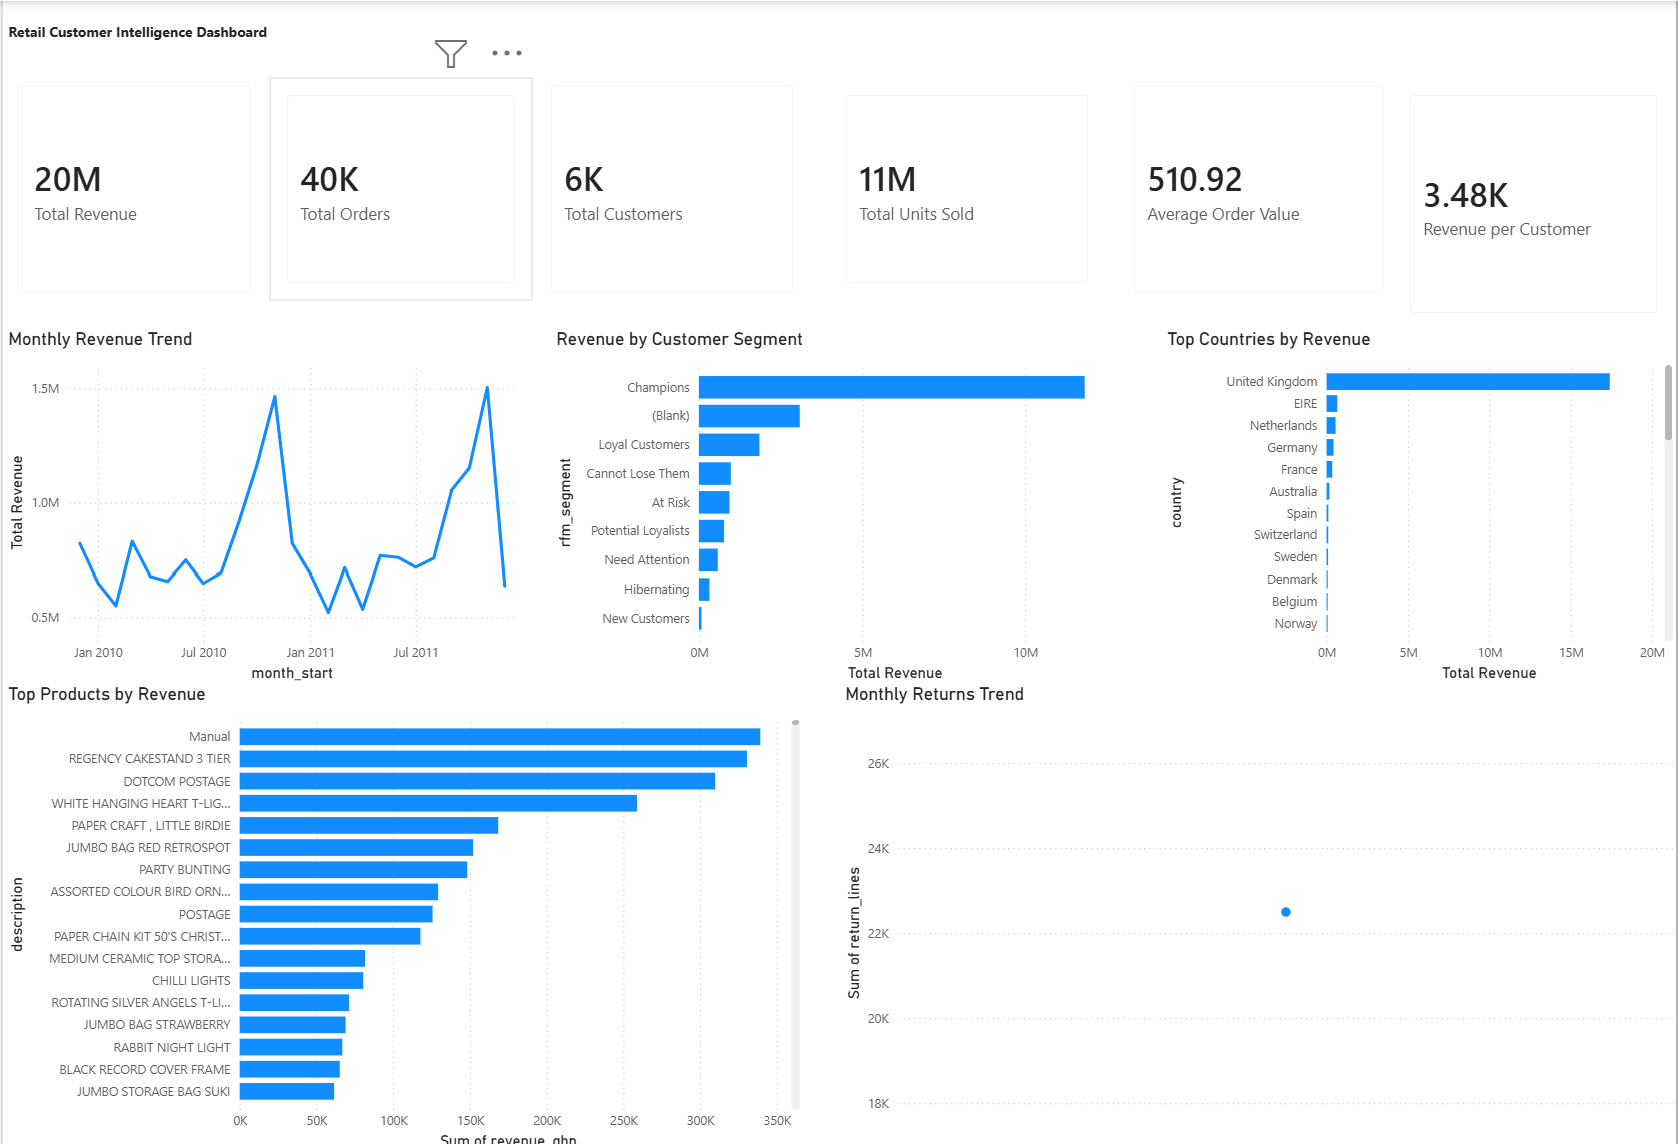

This screenshot's page, from the dashboard's own definition file:
{"tool":"powerbi","page":{"name":"Executive Overview","canvas":[1600,1100],"ordinal":0},"visuals":[{"type":"cardVisual","fields":{"Data":["fact_orders.Total Revenue"]},"box":[0,63.2,254.5,233.5],"z":0},{"type":"cardVisual","fields":{"Data":["fact_orders.Total Orders"]},"box":[254.5,72.7,252.6,214.4],"z":1},{"type":"cardVisual","fields":{"Data":["fact_orders.Total Customers"]},"box":[507.2,63.2,266,233.5],"z":2},{"type":"cardVisual","fields":{"Data":["fact_orders.Total Units Sold"]},"box":[788.5,72.7,266,214.4],"z":3},{"type":"cardVisual","fields":{"Data":["fact_orders.Average Order Value"]},"box":[1064.1,63.2,273.7,233.5],"z":4},{"type":"cardVisual","fields":{"Data":["fact_orders.Revenue per Customer"]},"box":[1328.2,72.7,271.8,243.1],"z":5},{"type":"lineChart","title":"Monthly Revenue Trend","fields":{"Category":["dim_date.month_start"],"Y":["fact_orders.Total Revenue"]},"box":[0,313.9,507.2,340.7],"z":6},{"type":"clusteredBarChart","title":"Revenue by Customer Segment","fields":{"Category":["dim_customer.rfm_segment"],"Y":["fact_orders.Total Revenue"]},"box":[524.4,313.9,532.1,340.7],"z":7},{"type":"clusteredBarChart","title":"Top Countries by Revenue","fields":{"Category":["fact_orders.country"],"Y":["fact_orders.Total Revenue"]},"box":[1108.1,313.9,493.8,340.7],"z":8},{"type":"clusteredBarChart","title":"Top Products by Revenue","fields":{"Category":["fact_product_month.description"],"Y":["Sum(fact_product_month.revenue_gbp)"]},"box":[0,652.6,767.5,449.8],"z":9},{"type":"lineChart","title":"Monthly Returns Trend","fields":{"Y":["Sum(fact_returns_month.return_lines)"]},"box":[800,652.6,801.9,447.8],"z":10},{"type":"textbox","box":[0,15.3,400,57.4],"z":11}]}

Visuals, with their boxes in screenshot pixels (x1, y1, x2, y2), scaled from the page's 1600x1100 canvas onto the 1678x1144 screenshot:
cardVisual - fact_orders.Total Revenue: bbox=[0, 66, 267, 309]
cardVisual - fact_orders.Total Orders: bbox=[267, 76, 532, 299]
cardVisual - fact_orders.Total Customers: bbox=[532, 66, 811, 309]
cardVisual - fact_orders.Total Units Sold: bbox=[827, 76, 1106, 299]
cardVisual - fact_orders.Average Order Value: bbox=[1116, 66, 1403, 309]
cardVisual - fact_orders.Revenue per Customer: bbox=[1393, 76, 1677, 328]
"Monthly Revenue Trend" lineChart: bbox=[0, 326, 532, 681]
"Revenue by Customer Segment" clusteredBarChart: bbox=[550, 326, 1108, 681]
"Top Countries by Revenue" clusteredBarChart: bbox=[1162, 326, 1677, 681]
"Top Products by Revenue" clusteredBarChart: bbox=[0, 679, 805, 1143]
"Monthly Returns Trend" lineChart: bbox=[839, 679, 1677, 1143]
textbox: bbox=[0, 16, 420, 76]
